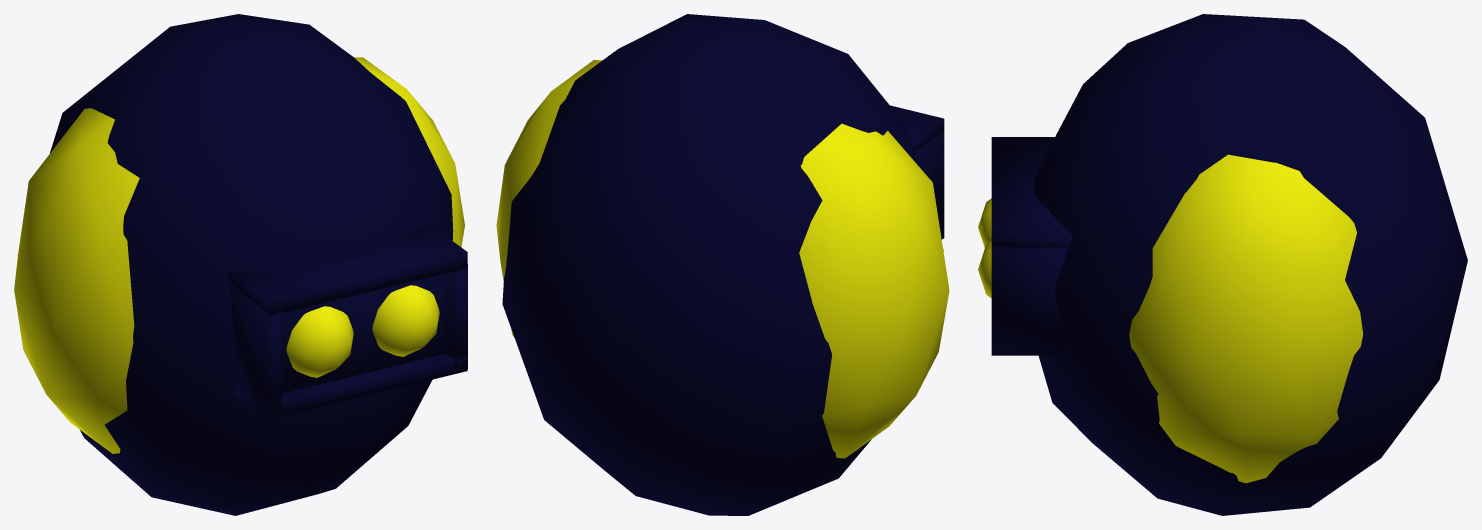
File: faceman head.dae
The picture shows the model from 3 angles, left to right: view 1: azimuth 30°, elevation 25°; view 2: azimuth 150°, elevation 25°; view 3: azimuth 270°, elevation 25°; orthographic projection.
Visible parts, largest first — view 1: Sphere; view 2: Sphere; view 3: Sphere.
Boxes of the visible parts, bbox=[...] form: Sphere: bbox=[14, 14, 467, 515]; Sphere: bbox=[496, 14, 949, 515]; Sphere: bbox=[978, 14, 1467, 515].
Size of the model in its own units: 0.1744 by 0.1796 by 0.1897.
Materials: 1 (1 with a texture image).
